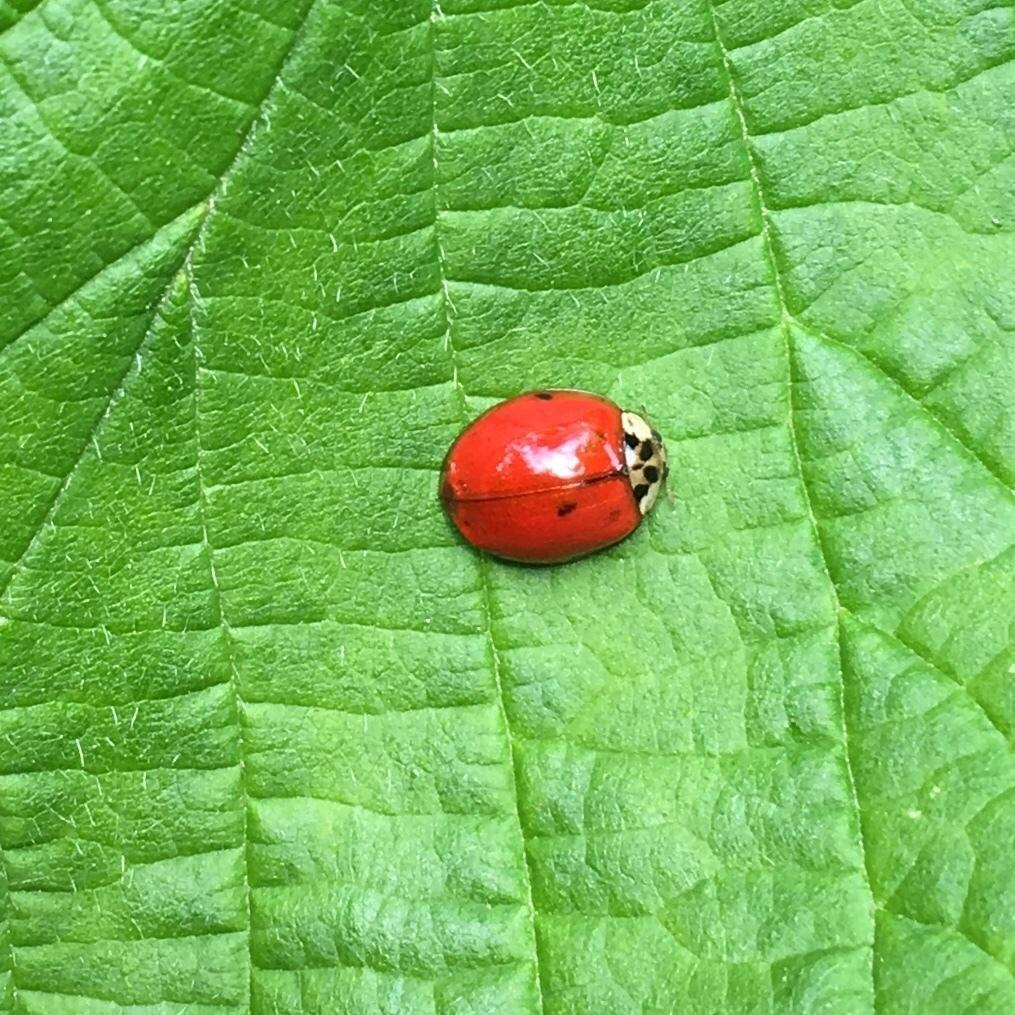ladybug: (439, 386, 671, 571)
